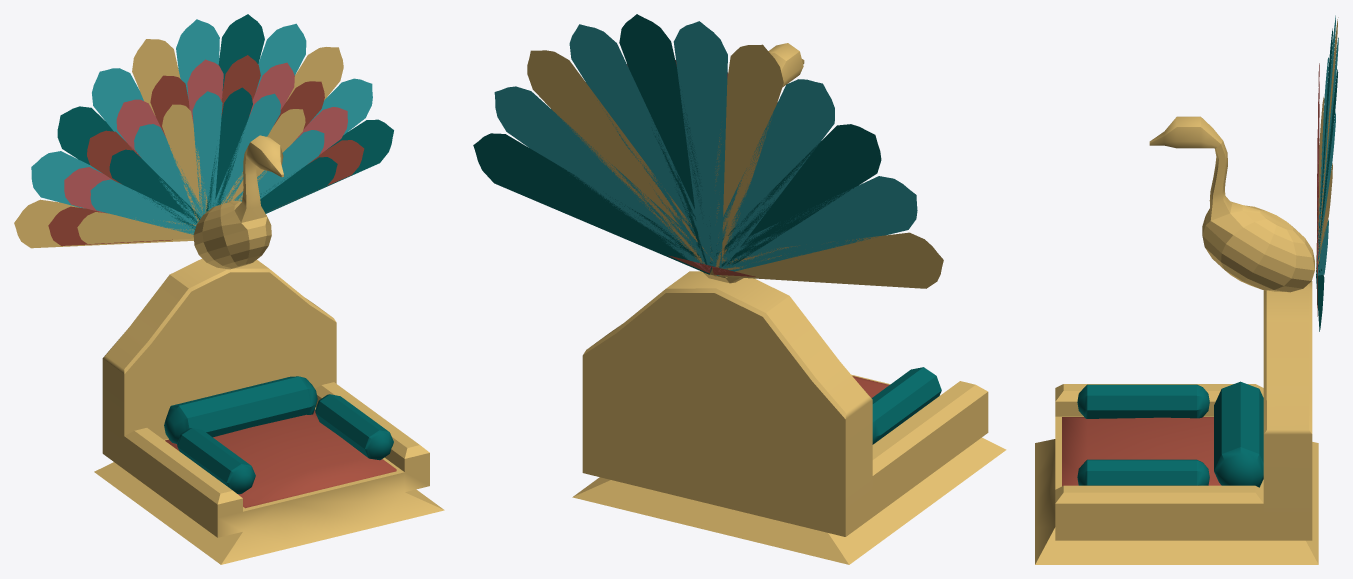
The model's file is trono.fbx.
3 renders of one model, left to right at view 1: azimuth 30°, elevation 25°; view 2: azimuth 150°, elevation 25°; view 3: azimuth 270°, elevation 25°, orthographic. The views are drawn at different scales.
Parts seen in each view (by area): view 1: polySurface27; view 2: polySurface27; view 3: polySurface27.
Part boxes in pixels (x1,y1,x2,y2): polySurface27: [14, 14, 444, 564]; polySurface27: [473, 14, 1006, 564]; polySurface27: [1035, 15, 1338, 564].
Bounding box in the file's own units: 7.33 × 7.71 × 4.55.
Materials: 5 (5 with a texture image).
